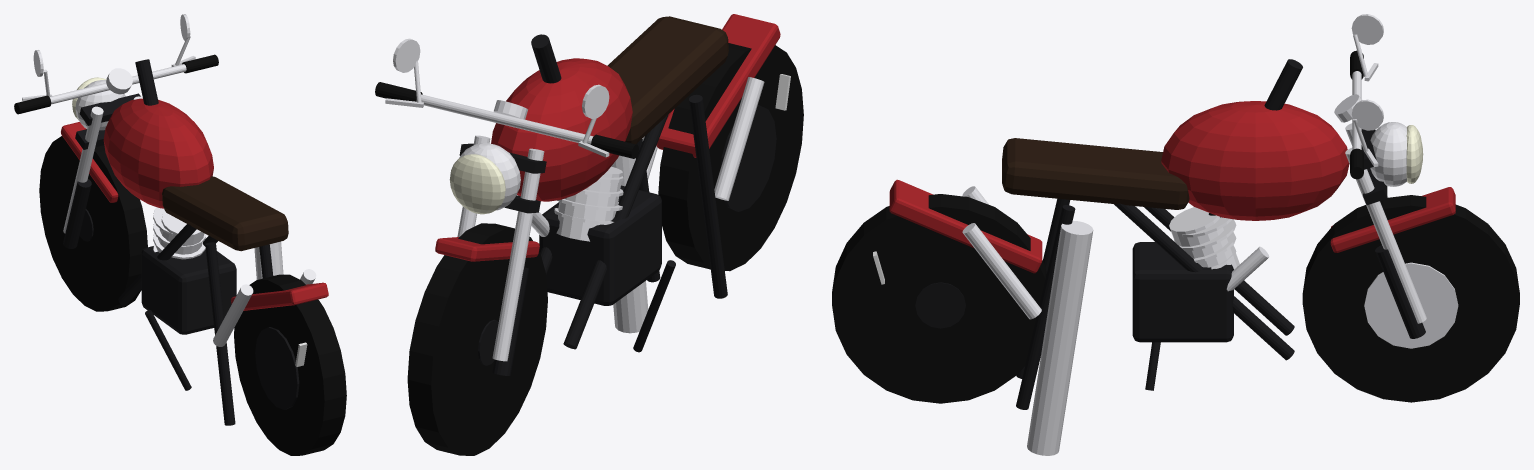
File: Detailed_Motorbike.obj
3 views of the same model, side by side, from view 1: azimuth 30°, elevation 25°; view 2: azimuth 150°, elevation 25°; view 3: azimuth 270°, elevation 25° (orthographic). The views are drawn at different scales.
Parts seen in each view (by area): view 1: Rear_Tire, Front_Tire, Fuel_Tank, Leather_Seat, Engine_Crankcase, Rear_Sprocket, Swingarm_-1, Rear_Fender, Fork_Leg_-1, Fork_Lower_-1, Front_Fender, Rear_Shock_-1 (+12 smaller); view 2: Front_Tire, Rear_Tire, Fuel_Tank, Engine_Crankcase, Leather_Seat, Rear_Fender, Rear_Sprocket, Fork_Leg_-1, Swingarm_-1, Frame_CradleL, Headlight_Glass, Engine_Cylinder (+16 smaller); view 3: Rear_Tire, Front_Tire, Fuel_Tank, Leather_Seat, Engine_Crankcase, Exhaust_Muffler, Front_BrakeDisc, Rear_Fender, Frame_CradleR, Front_Fender, Swingarm_1, Engine_Cylinder (+11 smaller).
Boxes of the visible parts, x1,y1,x2,y2 form: Rear_Tire: [234, 274, 346, 455]; Front_Tire: [39, 136, 147, 311]; Fuel_Tank: [103, 98, 213, 208]; Leather_Seat: [162, 176, 288, 251]; Engine_Crankcase: [141, 246, 236, 334]; Rear_Sprocket: [255, 327, 299, 409]; Swingarm_-1: [205, 242, 235, 425]; Rear_Fender: [231, 282, 328, 310]; Fork_Leg_-1: [63, 106, 103, 233]; Fork_Lower_-1: [63, 179, 91, 248]; Front_Fender: [61, 122, 118, 202]; Rear_Shock_-1: [213, 284, 253, 346]; Front_Tire: [407, 223, 547, 455]; Rear_Tire: [658, 43, 803, 271]; Fuel_Tank: [491, 58, 632, 201]; Engine_Crankcase: [539, 185, 661, 305]; Leather_Seat: [607, 16, 728, 144]; Rear_Fender: [656, 14, 780, 157]; Rear_Sprocket: [720, 105, 776, 211]; Fork_Leg_-1: [492, 148, 544, 361]; Swingarm_-1: [689, 94, 727, 298]; Frame_CradleL: [563, 114, 668, 349]; Headlight_Glass: [449, 154, 505, 214]; Engine_Cylinder: [556, 166, 622, 241]; Rear_Tire: [832, 194, 1046, 403]; Front_Tire: [1302, 195, 1519, 402]; Fuel_Tank: [1161, 101, 1349, 220]; Leather_Seat: [1002, 138, 1189, 209]; Engine_Crankcase: [1132, 242, 1233, 342]; Exhaust_Muffler: [1027, 220, 1093, 455]; Front_BrakeDisc: [1364, 262, 1458, 348]; Rear_Fender: [889, 179, 1042, 273]; Frame_CradleR: [1114, 203, 1294, 360]; Front_Fender: [1330, 187, 1455, 252]; Swingarm_1: [1016, 205, 1075, 409]; Engine_Cylinder: [1169, 207, 1239, 269].
Size of the model in its own units: 0.76 by 1.14 by 1.9.
